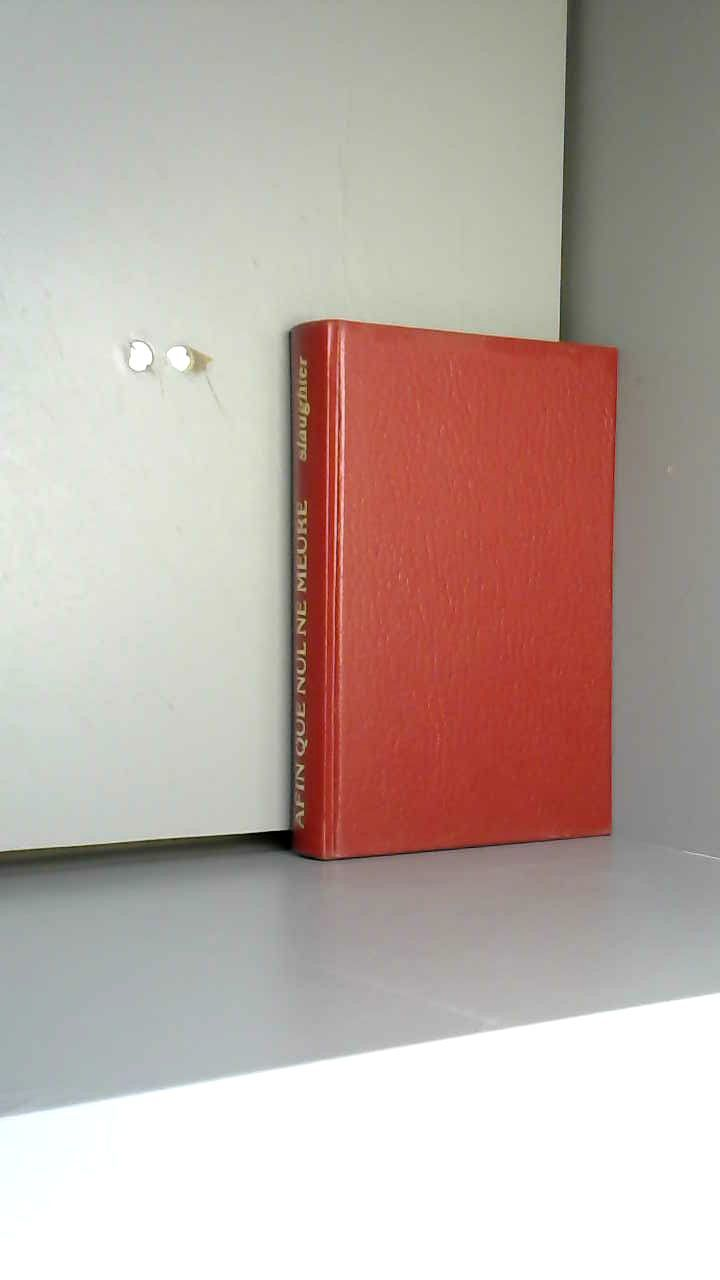book: (261, 296, 642, 880)
